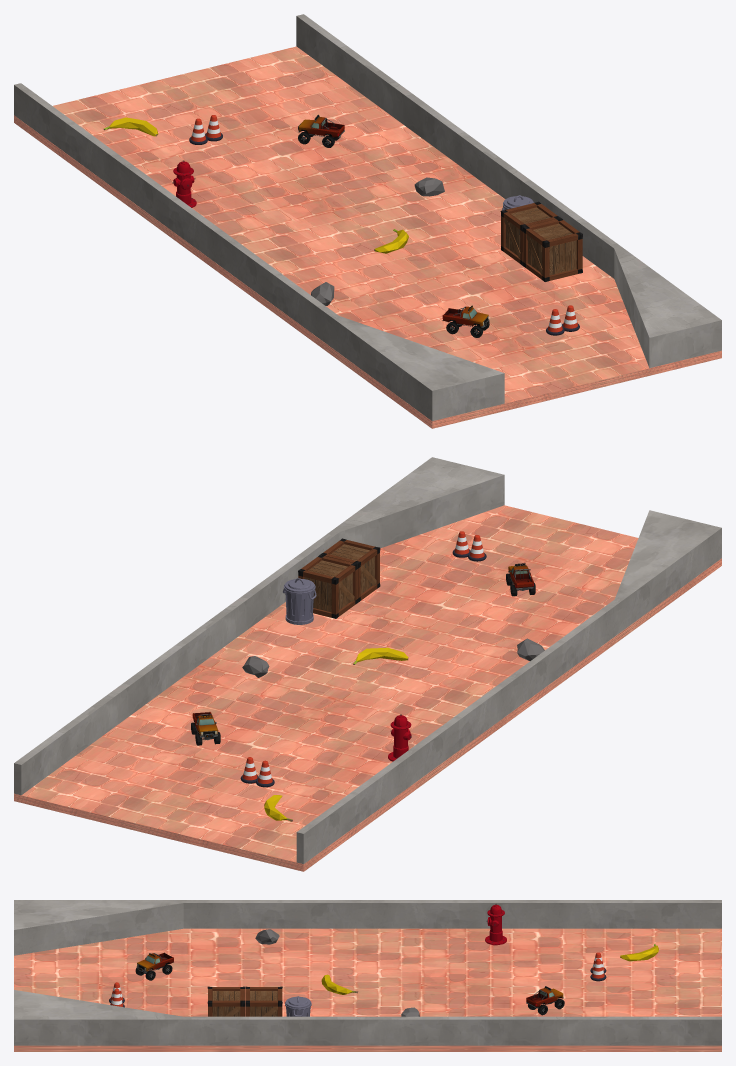
The model's file is random-balls-map-optimized.glb.
3 views of the same model, one above another, from view 1: azimuth 30°, elevation 25°; view 2: azimuth 150°, elevation 25°; view 3: azimuth 270°, elevation 25° (orthographic). The views are drawn at different scales.
Visible parts, largest first — view 1: floor, wall_left, wall_right, box02, box01, toy_car02, toy_car01, fireplug; view 2: floor, wall_right, wall_left, box01, box02, dustbin, toy_car01, toy_car02, fireplug; view 3: floor, wall_right, wall_left, box01, box02, toy_car02, toy_car01, fireplug, dustbin, banana02, banana01, rock02.
Boxes of the visible parts, left/top/right/bottom form: floor: left=14, top=46, right=721, bottom=428; wall_left: left=14, top=83, right=504, bottom=421; wall_right: left=296, top=14, right=721, bottom=368; box02: left=523, top=218, right=582, bottom=281; box01: left=500, top=201, right=560, bottom=265; toy_car02: left=442, top=305, right=489, bottom=337; toy_car01: left=298, top=114, right=344, bottom=147; fireplug: left=172, top=160, right=196, bottom=207; floor: left=14, top=505, right=721, bottom=871; wall_right: left=14, top=457, right=504, bottom=795; wall_left: left=296, top=510, right=721, bottom=864; box01: left=298, top=554, right=357, bottom=618; box02: left=320, top=538, right=380, bottom=602; dustbin: left=283, top=578, right=316, bottom=624; toy_car01: left=191, top=712, right=220, bottom=745; toy_car02: left=506, top=563, right=535, bottom=596; fireplug: left=388, top=714, right=411, bottom=761; floor: left=14, top=928, right=721, bottom=1051; wall_right: left=14, top=990, right=721, bottom=1045; wall_left: left=14, top=900, right=721, bottom=955; box01: left=245, top=986, right=282, bottom=1016; box02: left=207, top=986, right=244, bottom=1016; toy_car02: left=135, top=952, right=173, bottom=980; toy_car01: left=526, top=986, right=564, bottom=1015; fireplug: left=485, top=904, right=506, bottom=945; dustbin: left=285, top=996, right=311, bottom=1016; banana02: left=620, top=944, right=658, bottom=961; banana01: left=321, top=974, right=358, bottom=994; rock02: left=255, top=929, right=279, bottom=944.
Size of the model in its own units: 40.01 by 6.74 by 100.
Materials: 11 (8 with a texture image).
